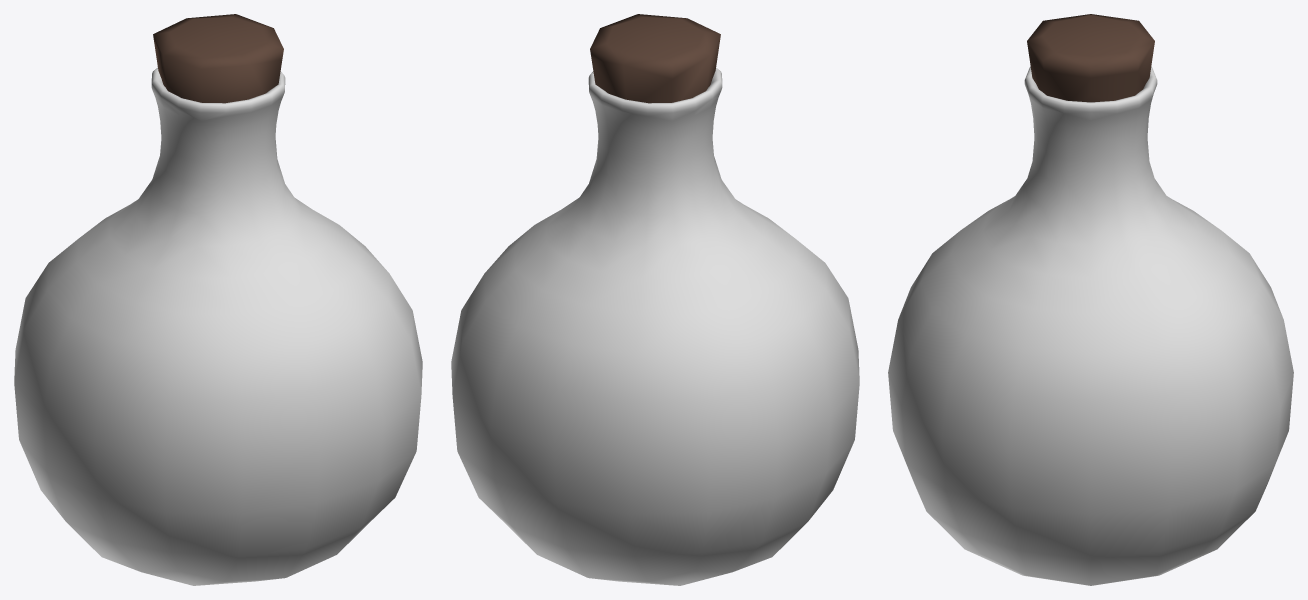
The model's file is quaternius-rpg-items-potion-1-empty.glb.
3 renders of one model, left to right at view 1: azimuth 30°, elevation 25°; view 2: azimuth 150°, elevation 25°; view 3: azimuth 270°, elevation 25°, orthographic.
Parts seen in each view (by area): view 1: Potion1_Empty; view 2: Potion1_Empty; view 3: Potion1_Empty.
Part boxes in pixels (left/top/right/bottom): Potion1_Empty: left=14, top=14, right=422, bottom=585; Potion1_Empty: left=451, top=14, right=859, bottom=585; Potion1_Empty: left=888, top=14, right=1293, bottom=585.
Bounding box in the file's own units: 0.6684 × 0.9629 × 0.6684.
